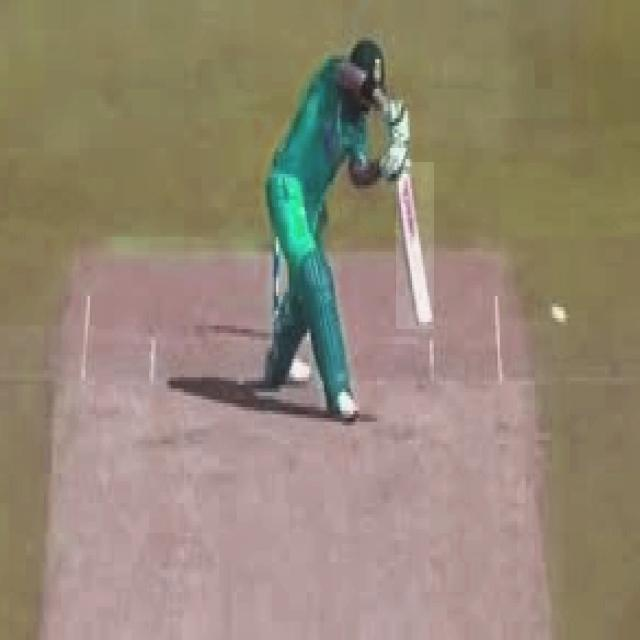bat: (393, 165, 437, 329)
toe: (414, 315, 439, 332)
